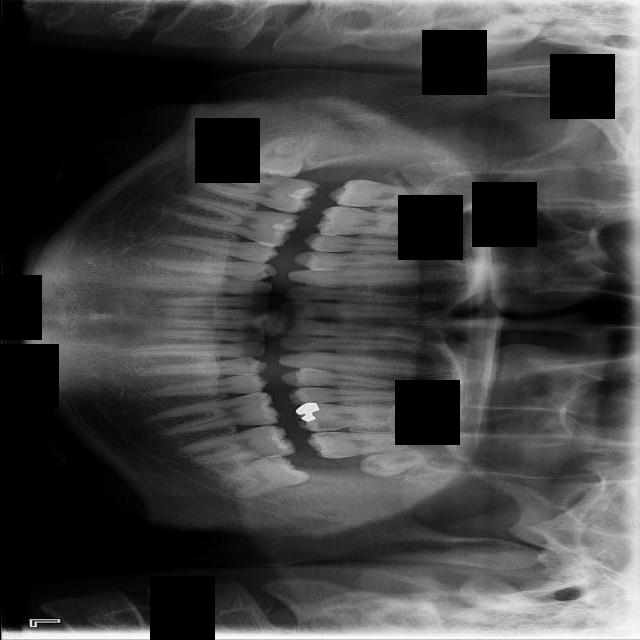52: (237, 206, 300, 251), (256, 173, 320, 216), (236, 421, 296, 464), (293, 403, 347, 432), (304, 431, 354, 459), (318, 420, 343, 431), (318, 432, 340, 437)
73: (64, 603, 74, 607)
BioHorizons Implant: (305, 431, 437, 461)
BioLife Implant: (358, 447, 438, 480)
Biomet 3i Implant: (211, 445, 311, 508)
Blue Sky Bio Implant: (179, 422, 296, 468)
Caries: (327, 178, 456, 210)
Implant: (201, 167, 321, 216)
Keystone Dental Implant: (234, 129, 324, 183)
